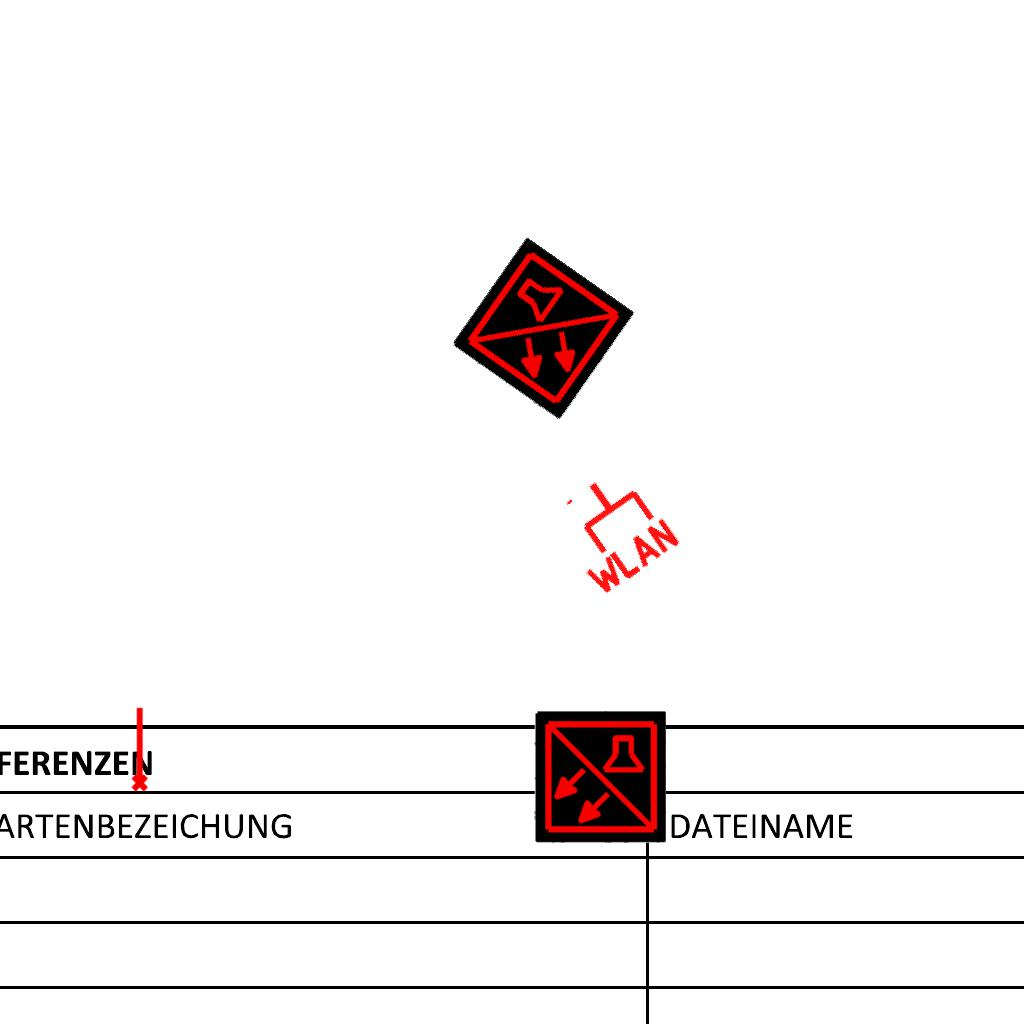ASR_Ansaugoeffnung: (127, 705, 150, 793)
OKW_Multisensormelder_(Kombination_optischer_Rauch-Kahlenmonoxid_Waerme-Melder): (451, 237, 635, 421), (534, 711, 666, 843)
WLAN: (539, 456, 686, 602)
